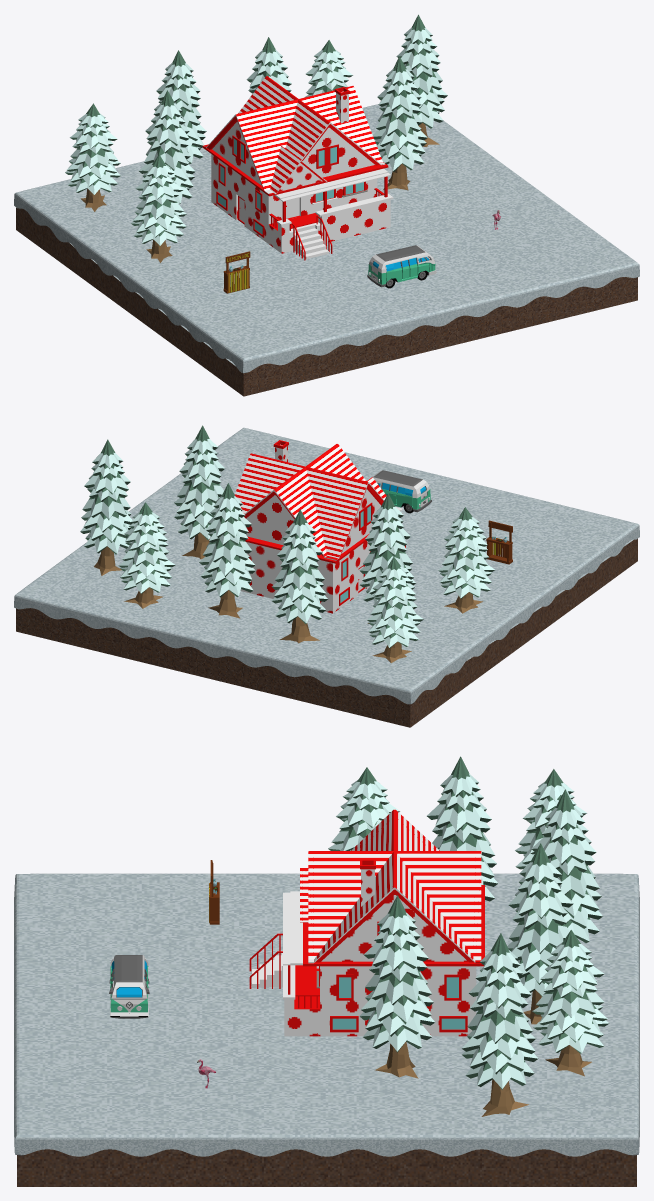
3 views of the same model, one above another, from view 1: azimuth 30°, elevation 25°; view 2: azimuth 150°, elevation 25°; view 3: azimuth 270°, elevation 25° (orthographic). The views are drawn at different scales.
Visible parts, largest first — view 1: Cube.003, Cube.196, VEHICLES_VAN, OBJRANDOM_LEMONADE_STAND; view 2: Cube.003, Cube.196, VEHICLES_VAN, OBJRANDOM_LEMONADE_STAND; view 3: Cube.003, Cube.196, VEHICLES_VAN.
Part boxes in pixels (x1,y1,x2,y2): Cube.003: [14, 14, 639, 396]; Cube.196: [202, 76, 393, 260]; VEHICLES_VAN: [367, 245, 436, 288]; OBJRANDOM_LEMONADE_STAND: [223, 251, 250, 293]; Cube.003: [14, 425, 639, 727]; Cube.196: [234, 440, 405, 613]; VEHICLES_VAN: [372, 470, 431, 513]; OBJRANDOM_LEMONADE_STAND: [486, 520, 512, 564]; Cube.003: [14, 756, 639, 1186]; Cube.196: [249, 809, 484, 1036]; VEHICLES_VAN: [109, 955, 149, 1018].
Bounding box in the file's own units: 4040 × 1793 × 4040.
34 materials, 4 textured.
